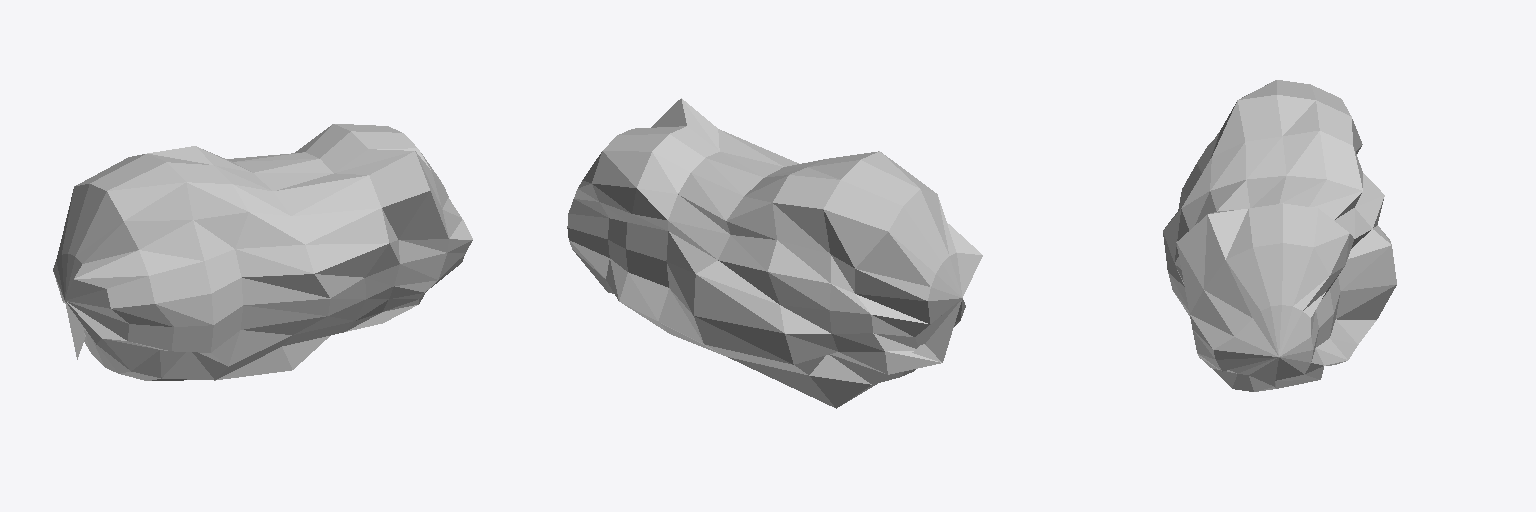
Rendered from asteroid6.obj.
The picture shows the model from 3 angles: view 1: azimuth 30°, elevation 25°; view 2: azimuth 150°, elevation 25°; view 3: azimuth 270°, elevation 25°; orthographic projection.
Parts seen in each view (by area): view 1: pCylinder1; view 2: pCylinder1; view 3: pCylinder1.
Boxes of the visible parts, x1=… form: pCylinder1: x1=53, y1=124, x2=472, y2=380; pCylinder1: x1=567, y1=98, x2=982, y2=408; pCylinder1: x1=1163, y1=80, x2=1396, y2=391.
Bounding box in the file's own units: 4.92 × 2.77 × 2.51.